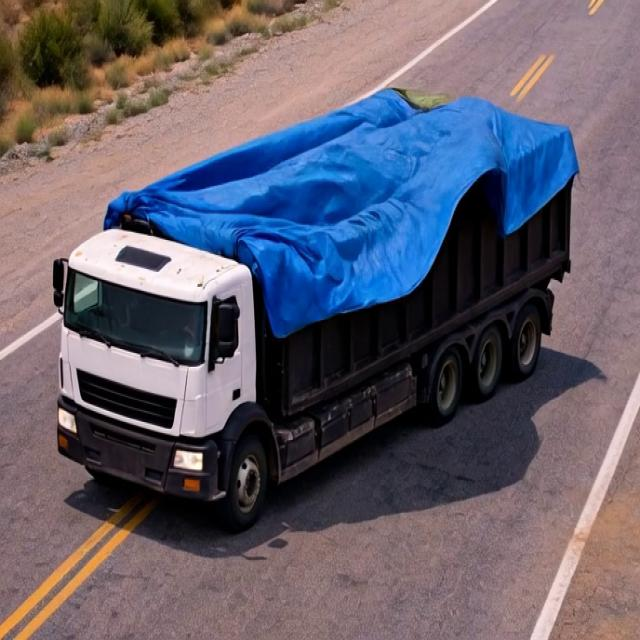Box: (115, 85, 584, 288)
Truck: (49, 67, 608, 529)
